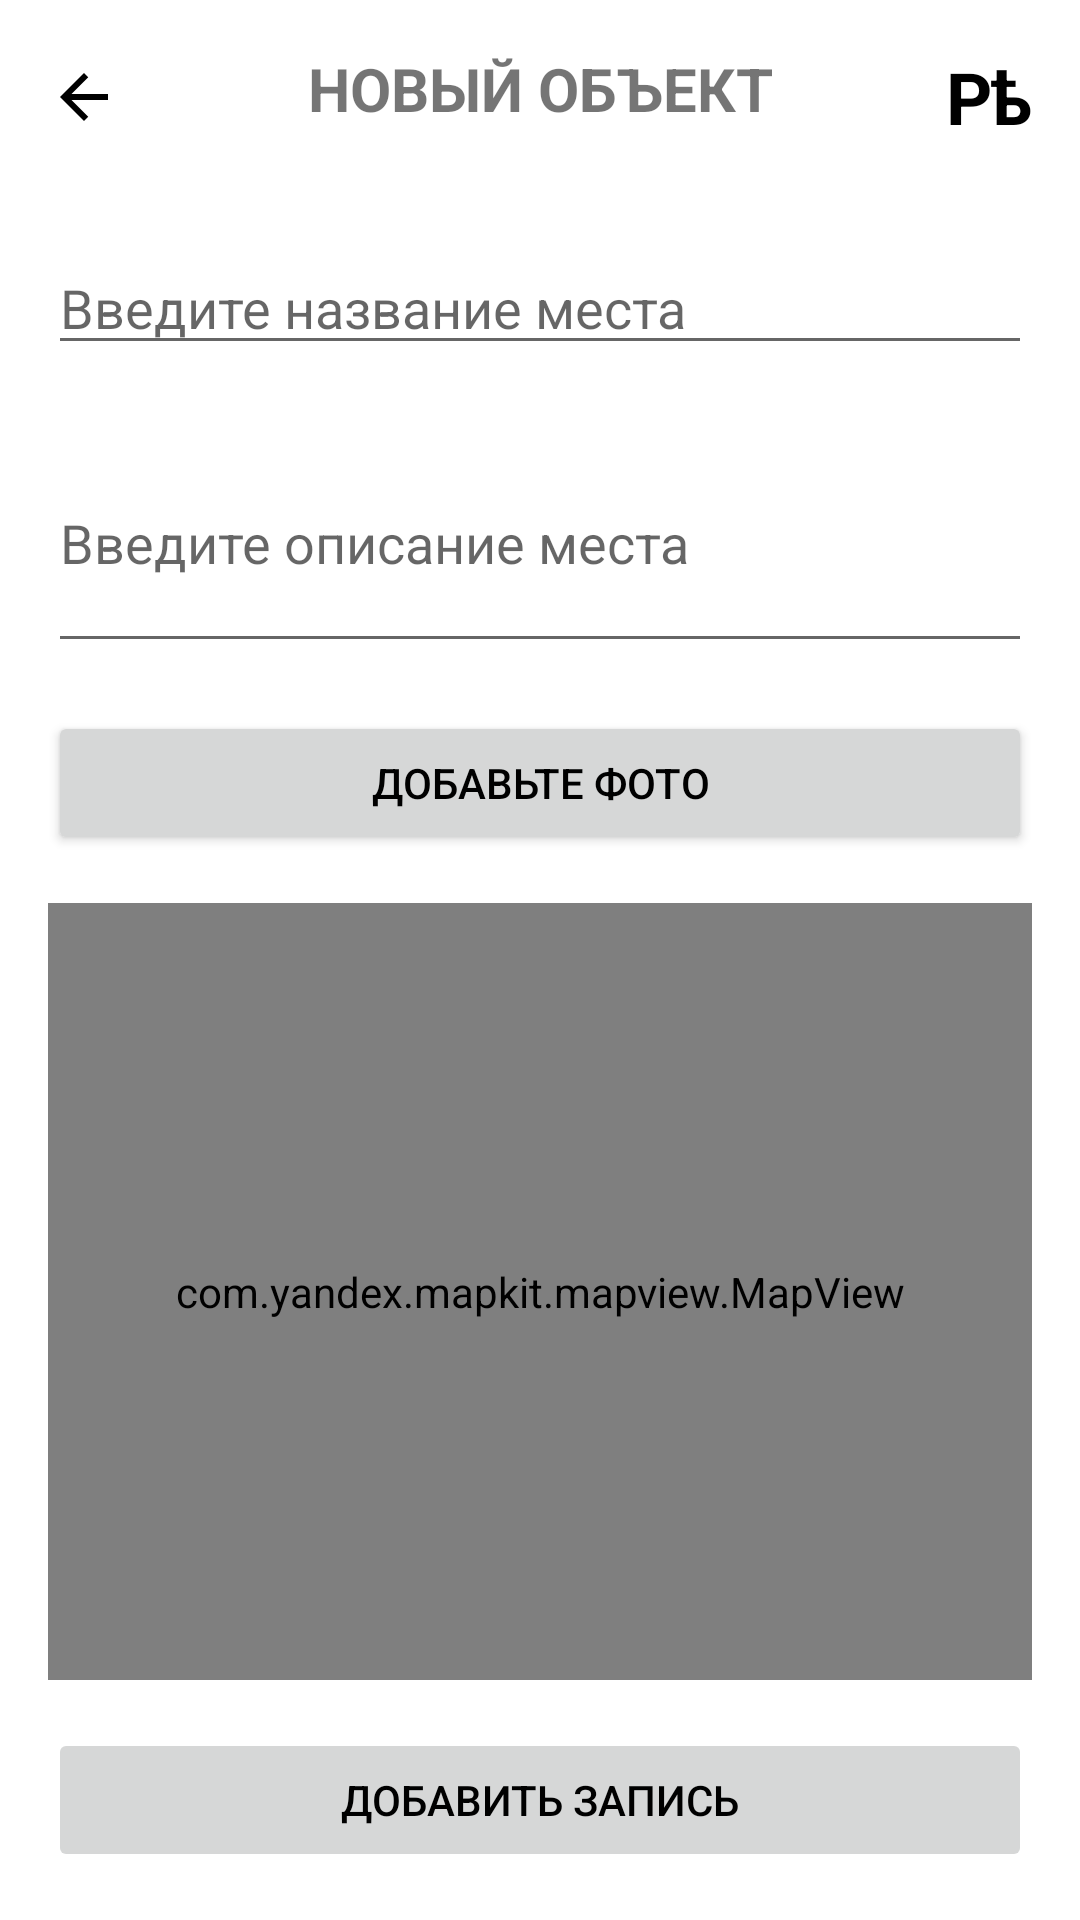

Screen size 1080 × 1920. Icon name, then its center in pixels as [x,y]:
back: [84,97]
